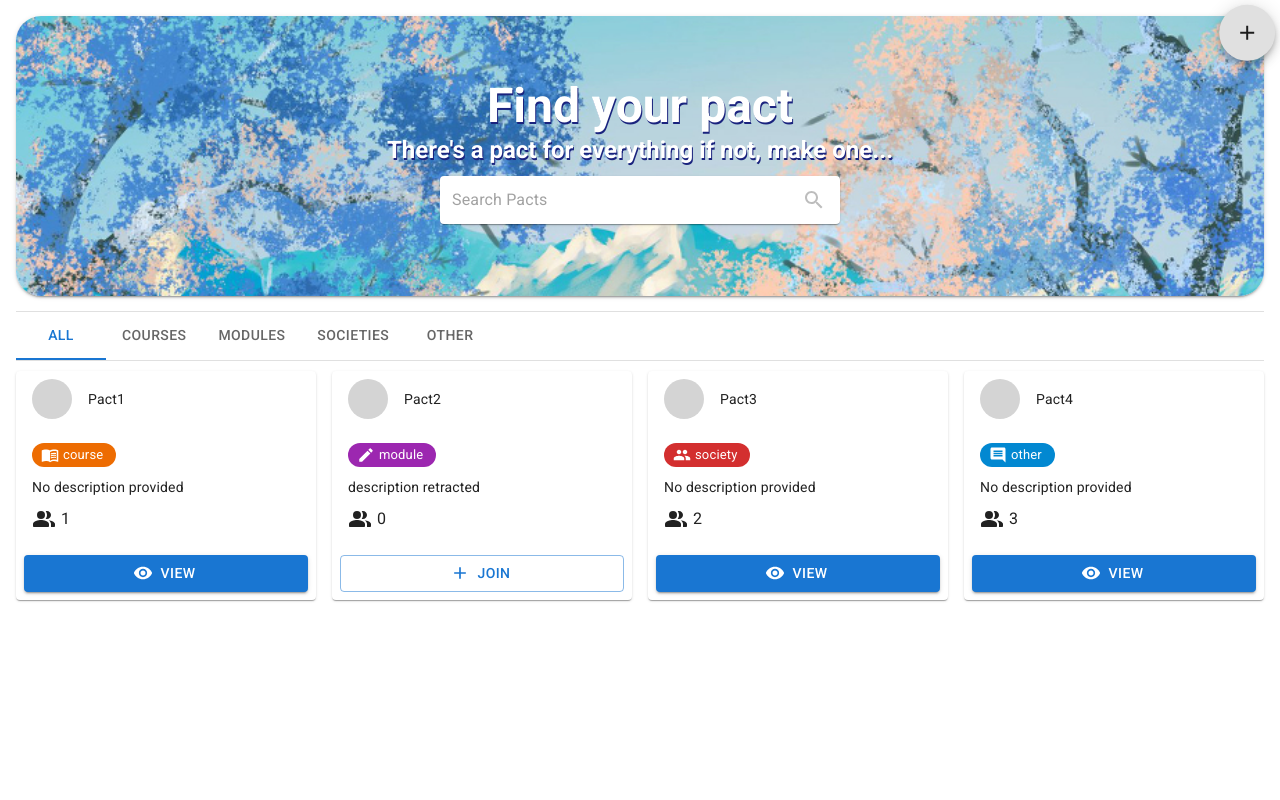
Scenario: University Hub Tests › Check interaction with elements › Search bar interactions › search bar should have clear button when typed into
The width and height of the screenshot is (1280, 800).
Step 1. Type "some value" into the field with placeholder "Search Pacts" → (622,200), box [452, 184, 792, 216]
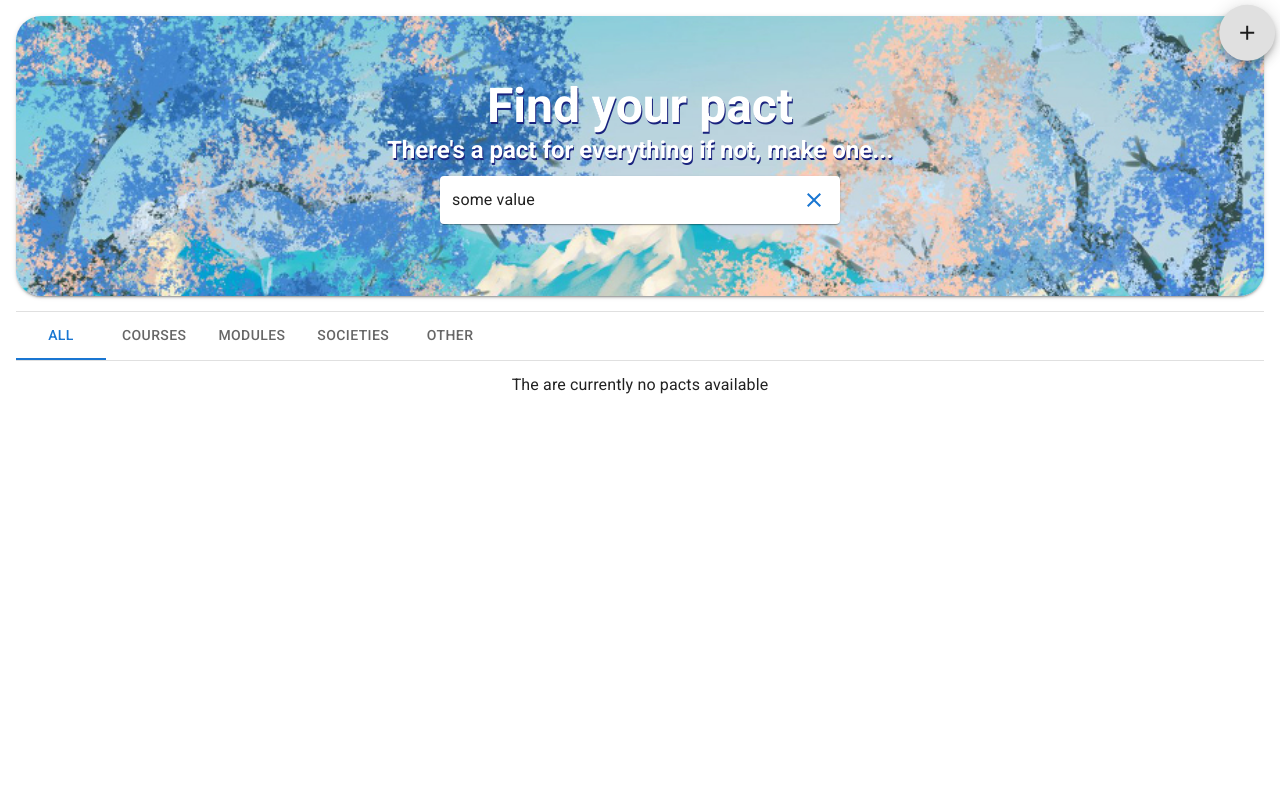
Expected: the icon with test id "search-icon" is gone
Expected: the icon with test id "clear-icon" is shown, [802, 188, 826, 212]
Expected: the button with test id "search-button" is enabled
Step 2. Click the button with test id "search-button" → (814,200), box [792, 178, 836, 222]
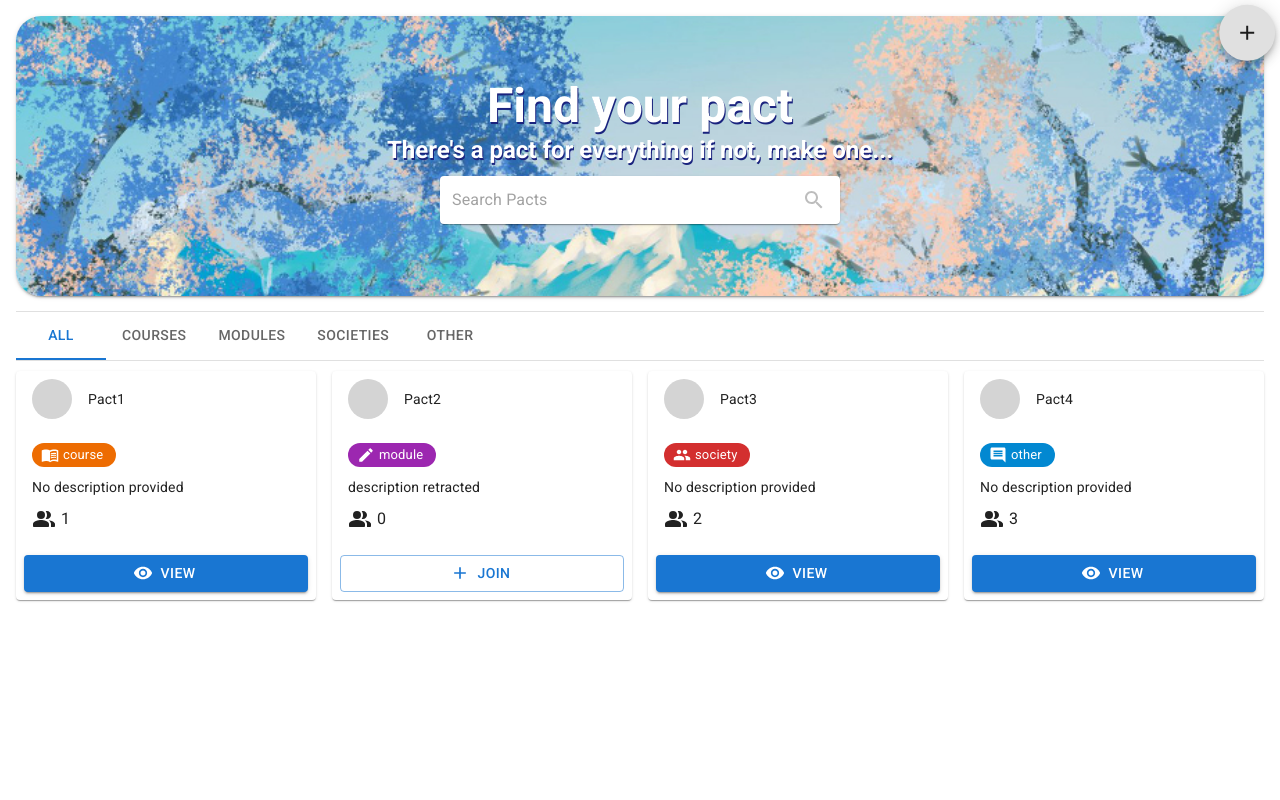
Expected: the field with placeholder "Search Pacts" is empty, [452, 184, 792, 216]
Expected: the icon with test id "search-icon" is shown, [802, 188, 826, 212]
Expected: the icon with test id "clear-icon" is gone
